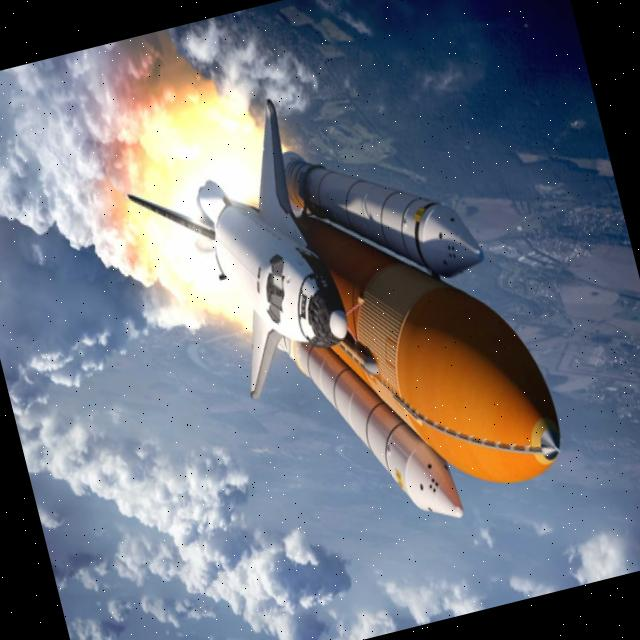rocket: (124, 82, 369, 411)
